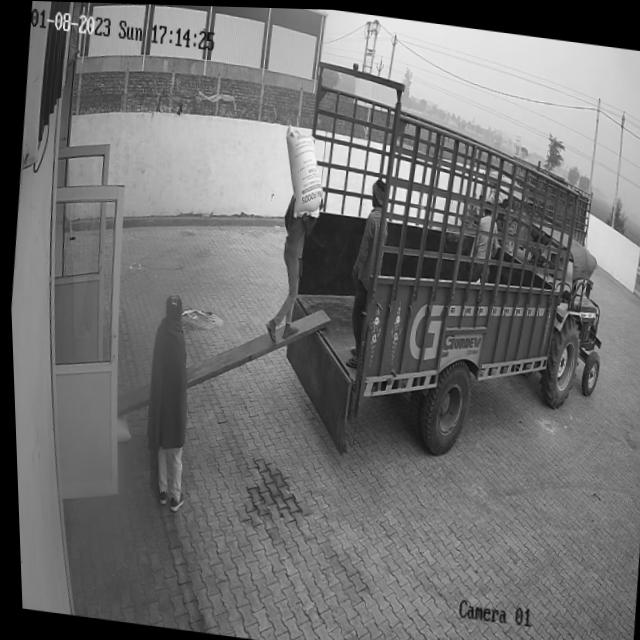sack: (276, 121, 328, 218)
